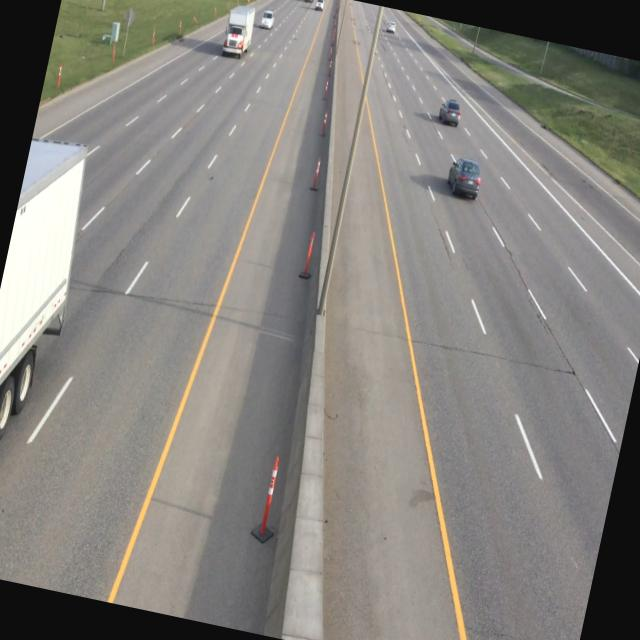Vehicle: (220, 1, 258, 58), (442, 154, 487, 201), (436, 96, 464, 130), (258, 7, 276, 33)
